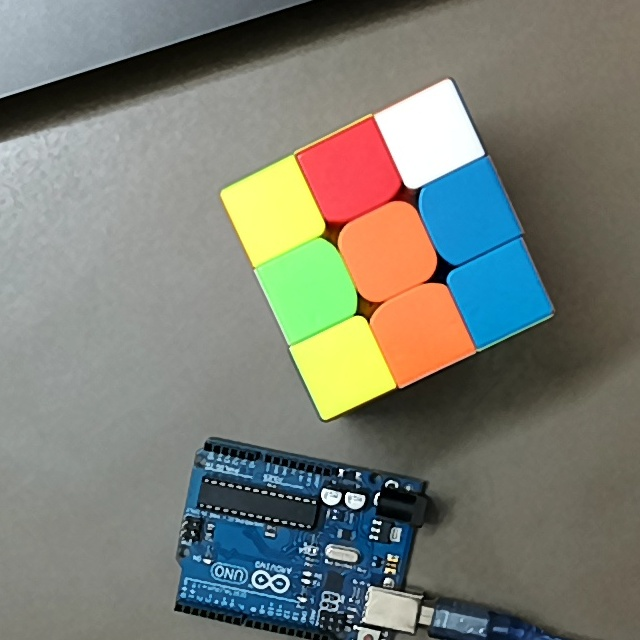tile: (388, 303, 455, 367), (354, 220, 421, 281), (399, 103, 461, 167), (438, 181, 498, 244), (319, 148, 385, 204), (313, 333, 372, 395), (278, 257, 336, 320), (241, 180, 302, 238), (472, 263, 530, 323)
